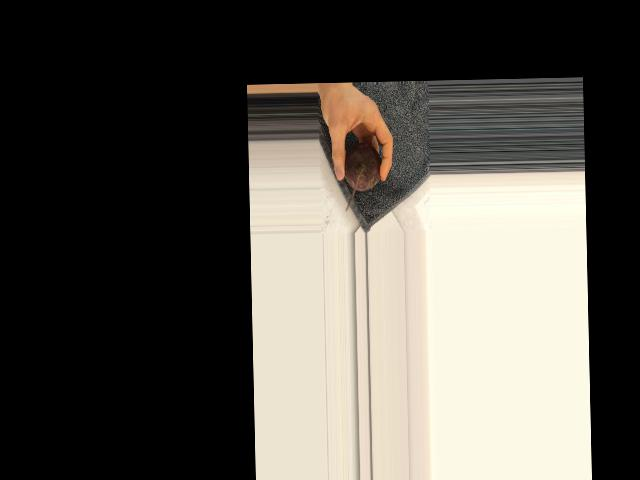beet: (343, 142, 382, 211)
